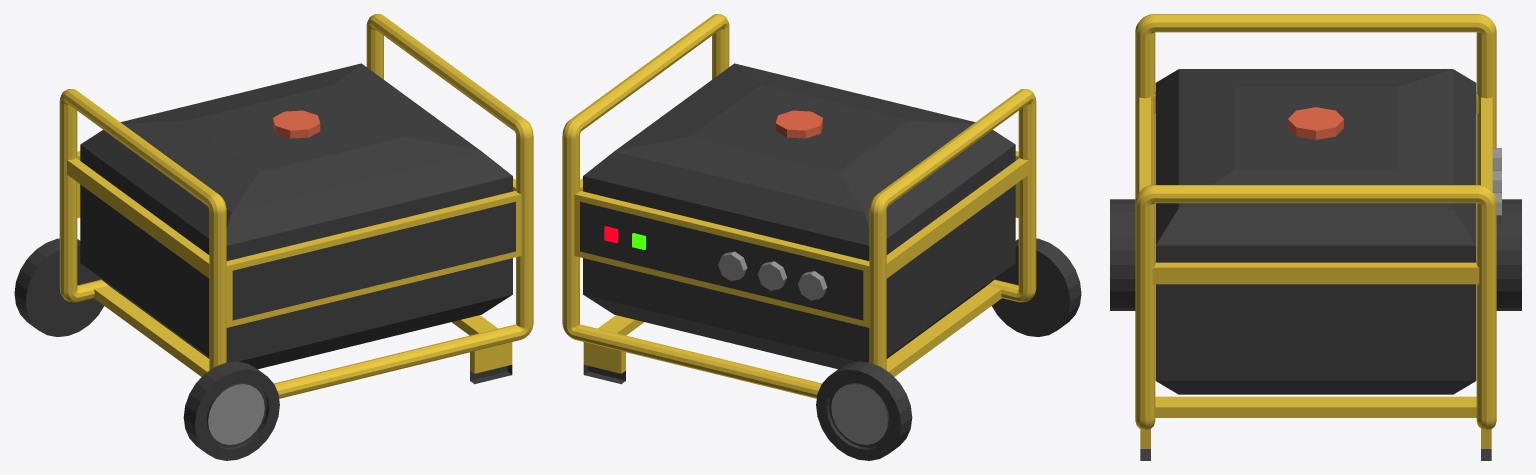
The model's file is Generator.fbx.
The picture shows the model from 3 angles, left to right: view 1: azimuth 30°, elevation 25°; view 2: azimuth 150°, elevation 25°; view 3: azimuth 270°, elevation 25°; orthographic projection. The views are drawn at different scales.
Visible parts, largest first — view 1: gen_yellow; view 2: gen_yellow; view 3: gen_yellow.
Part boxes in pixels (box(x1,y1,x2,y2)): gen_yellow: box(14, 14, 533, 460); gen_yellow: box(562, 14, 1081, 460); gen_yellow: box(1110, 14, 1521, 460).
Size of the model in its own units: 171 by 117 by 151.
